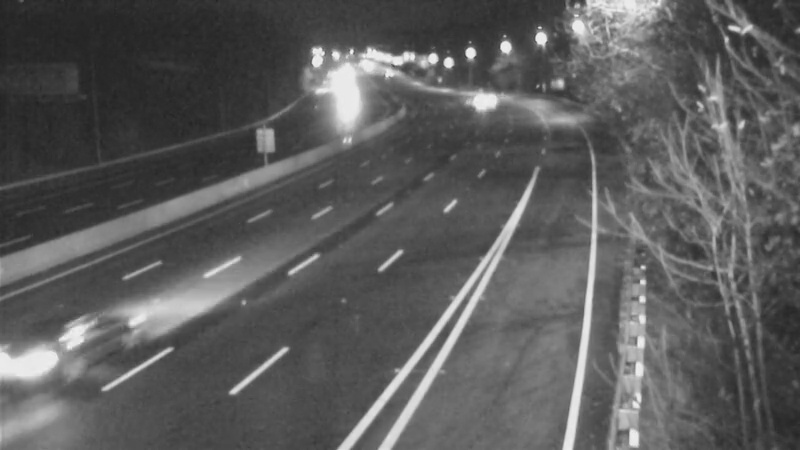vehicle: (22, 289, 132, 399), (449, 72, 499, 122), (319, 70, 369, 120)
